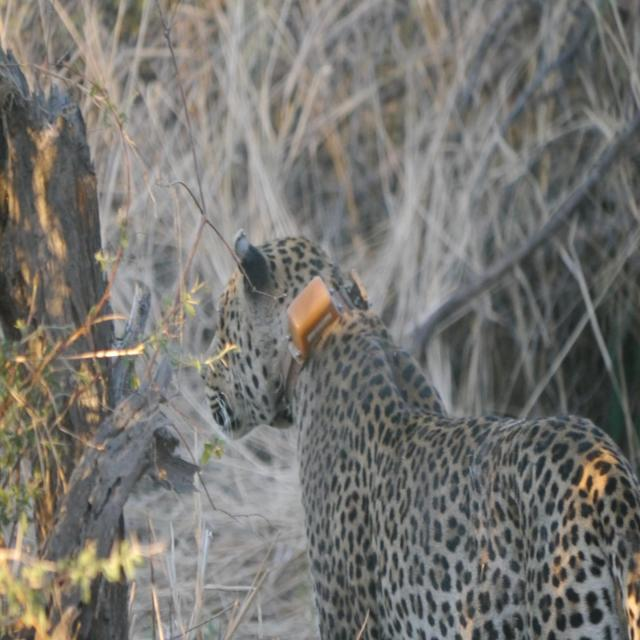Leopard: (191, 228, 640, 640)
